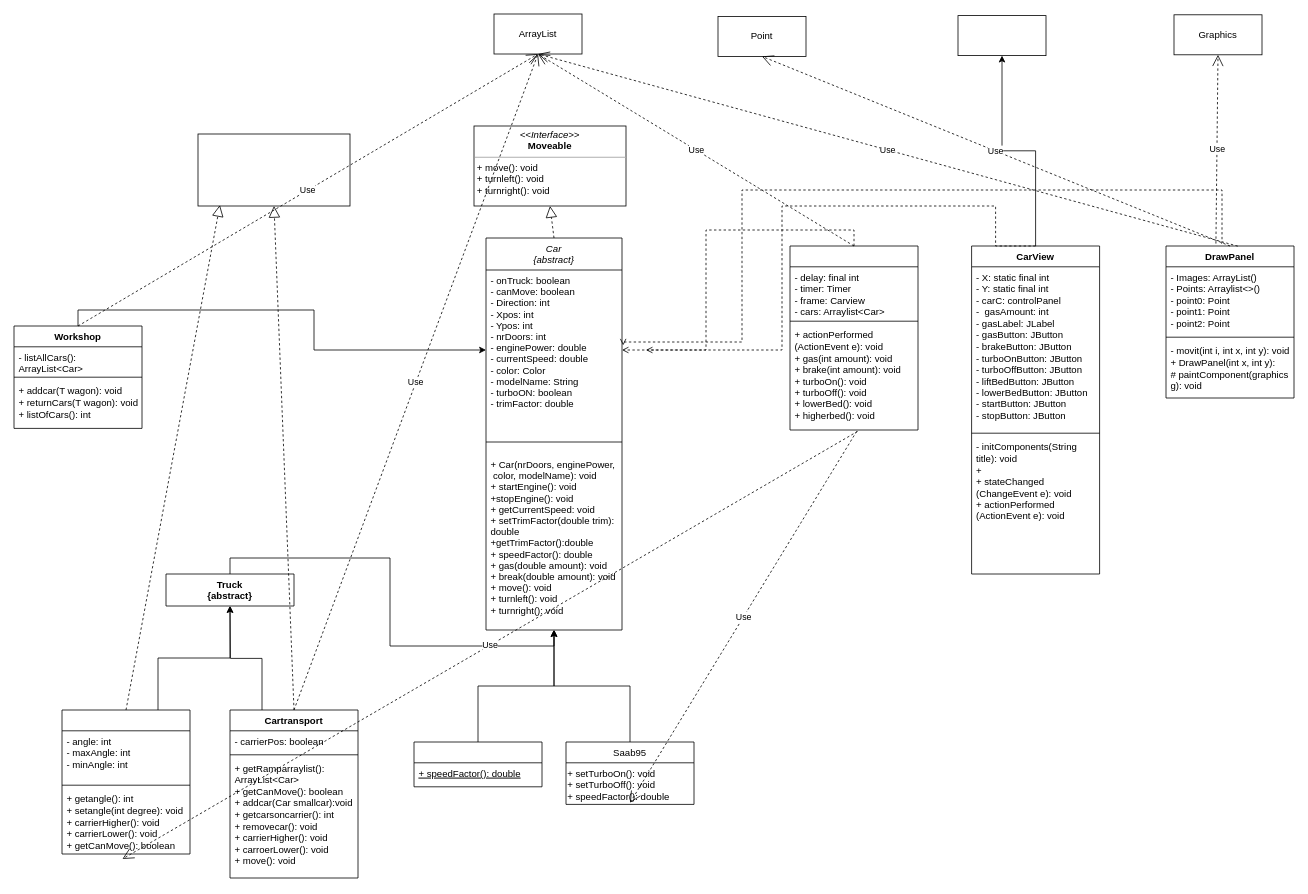
The diagram is 1308 pixels wide and 894 high, and some of its shapes have lost their labels. The box of each missing label's shape, as (x1, y1, x2, y2) in pixels:
<<Interface>> Tilting + carrierHigher(): void + carrierLower(): void: (197, 133, 350, 206)
CarController: (789, 245, 918, 430)
JFrame: (957, 15, 1046, 56)
Scania: (61, 709, 190, 854)
Volvo: (413, 741, 542, 787)
